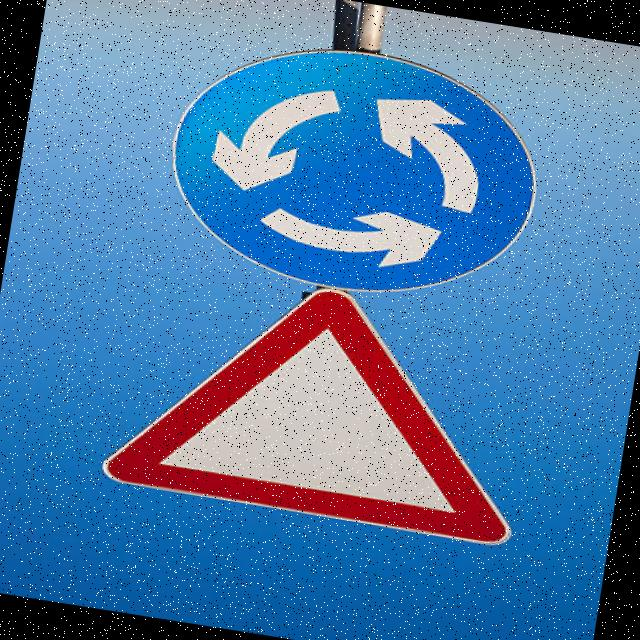round_about: (138, 18, 569, 320)
